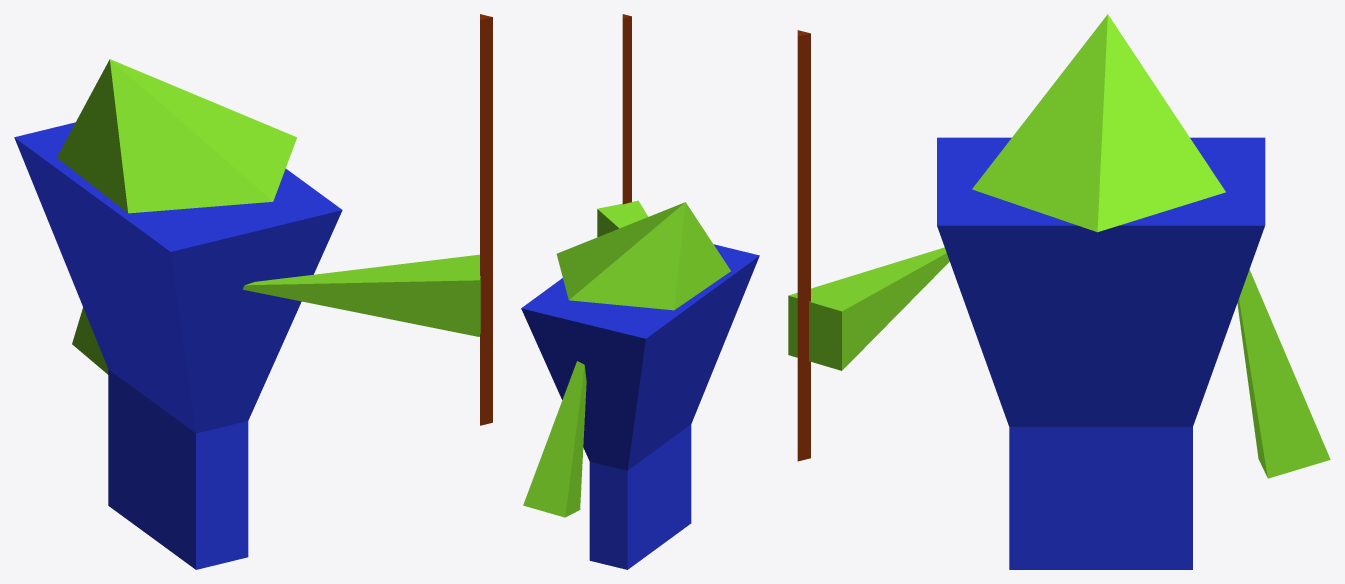
The model's file is UnitWithAtlasMaterial.glb.
3 views of the same model, side by side, from view 1: azimuth 30°, elevation 25°; view 2: azimuth 150°, elevation 25°; view 3: azimuth 270°, elevation 25° (orthographic). The views are drawn at different scales.
Visible parts, largest first — view 1: Unit; view 2: Unit; view 3: Unit.
Boxes of the visible parts, bbox=[...] form: Unit: bbox=[14, 14, 492, 569]; Unit: bbox=[521, 14, 759, 569]; Unit: bbox=[788, 14, 1330, 569].
Bounding box in the file's own units: 0.9976 × 2.04 × 1.65.
1 material, 1 textured.
